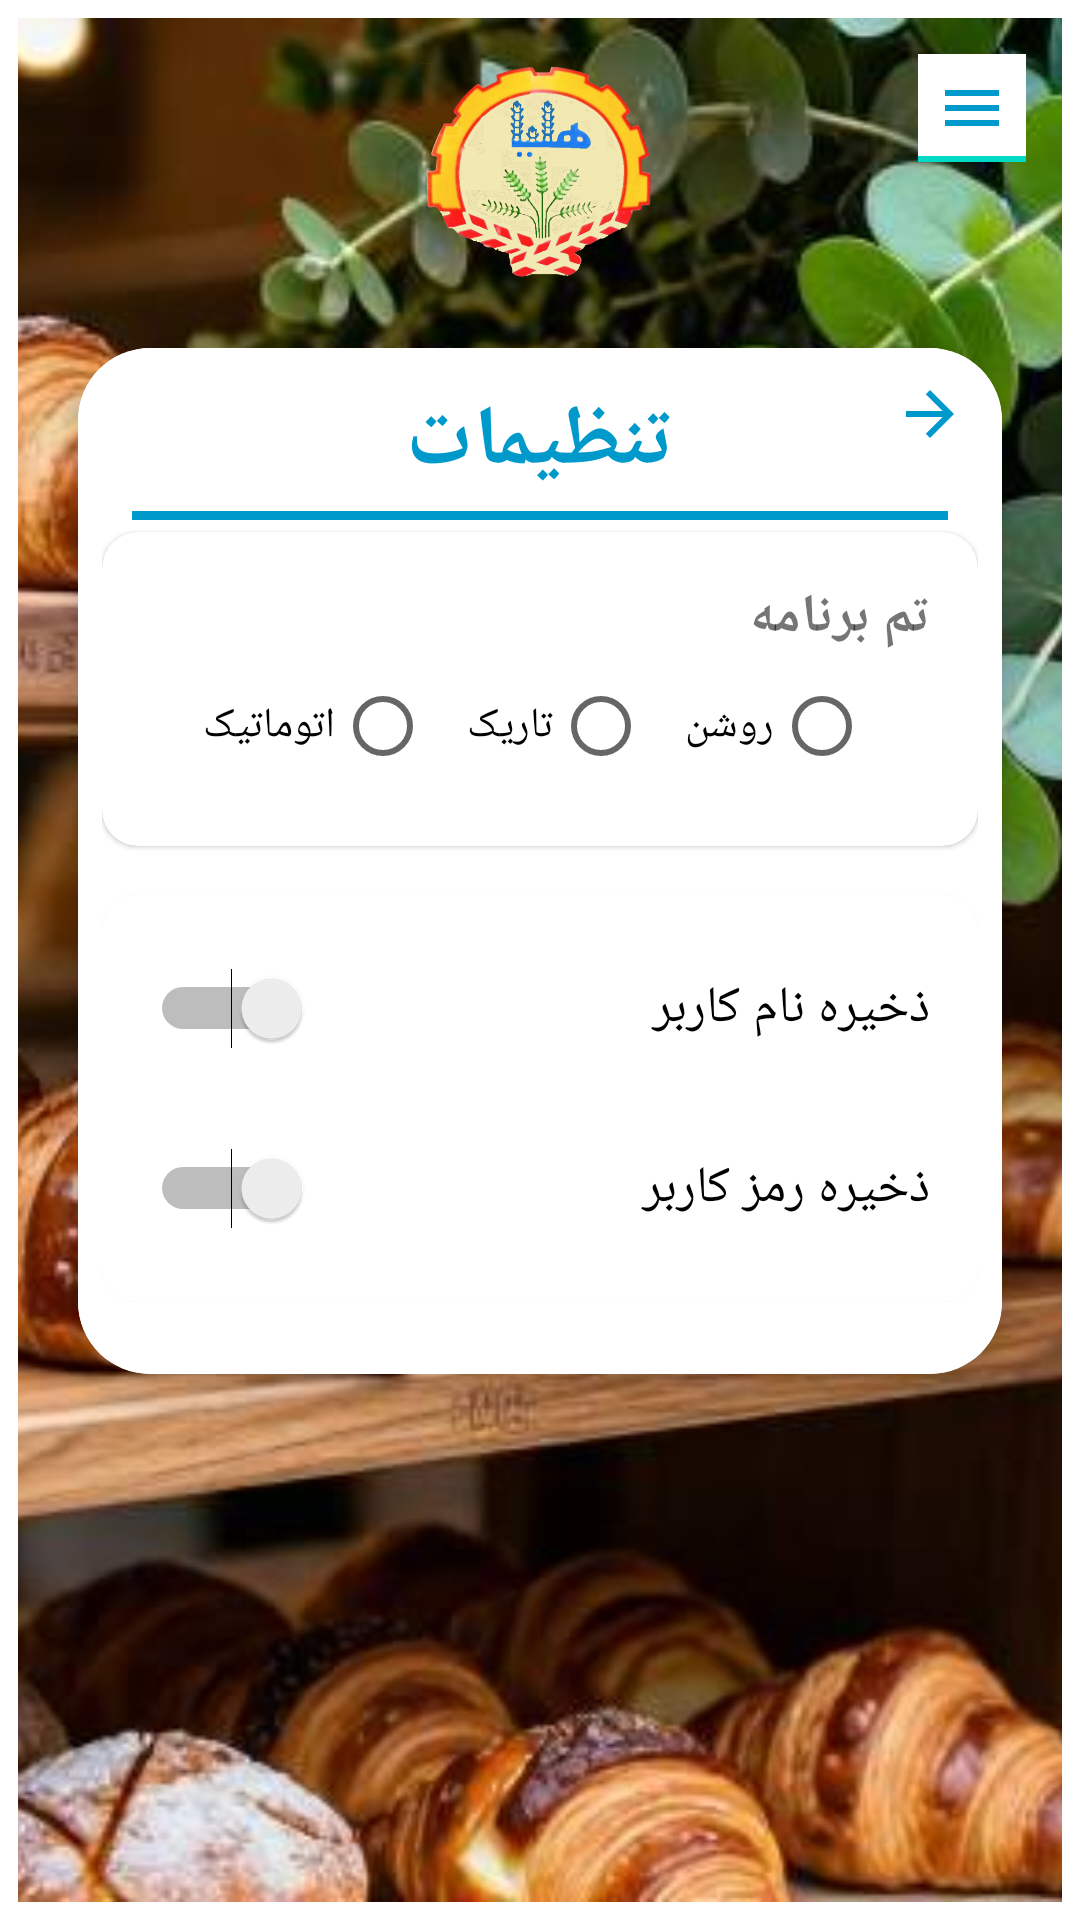

Icon click points for this 1080px x 1920px phone screenshot, format [x,y]:
بازگشت به صفحه ورود: [930,414]
منو: [972,108]
